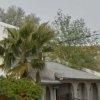Palm tree: (3, 14, 55, 83)
